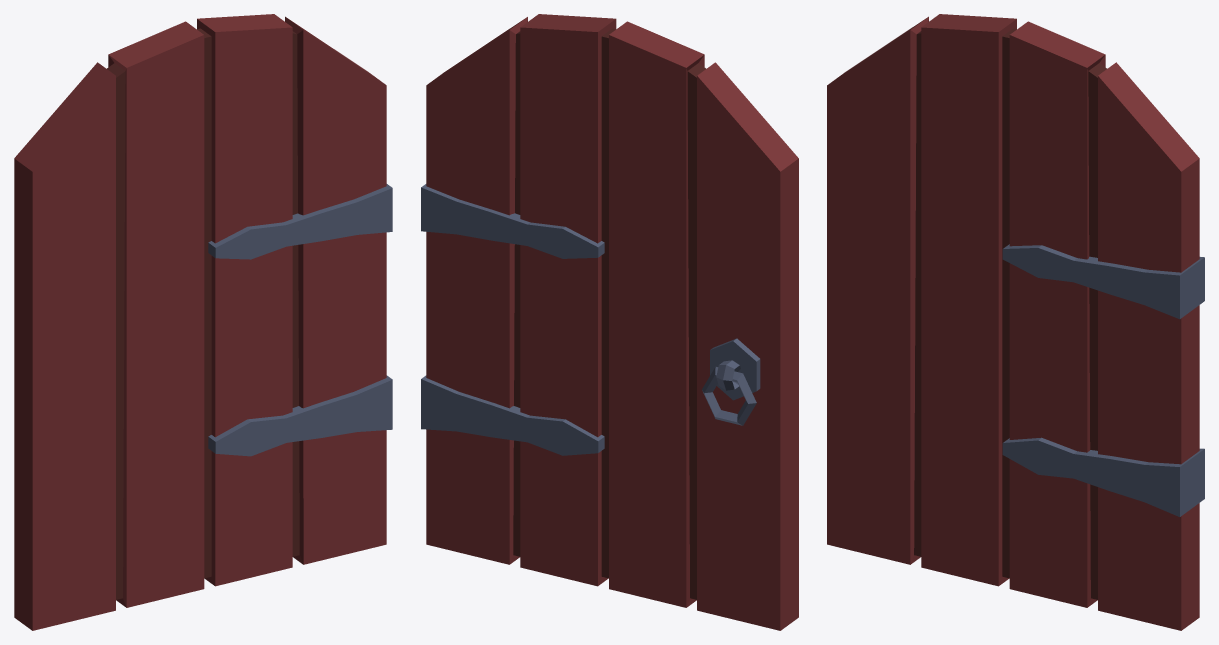
The model's file is door.fbx.
3 renders of one model, left to right at view 1: azimuth 30°, elevation 25°; view 2: azimuth 150°, elevation 25°; view 3: azimuth 330°, elevation 25°, orthographic.
Visible parts, largest first — view 1: door.014; view 2: door.014; view 3: door.014.
Boxes of the visible parts, <box> form: door.014: <box>14,14,392,630</box>; door.014: <box>421,14,798,630</box>; door.014: <box>827,14,1204,630</box>.
Size of the model in its own units: 13.09 by 19.45 by 2.28.
